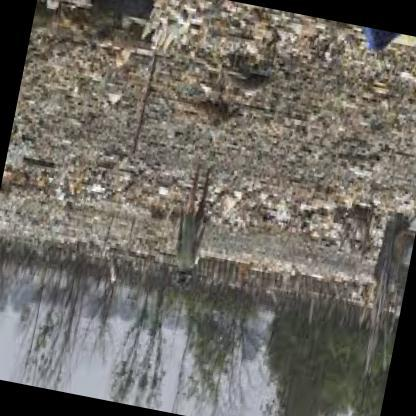Garbage: (96, 52, 138, 115), (291, 100, 331, 142), (210, 3, 250, 38), (67, 96, 110, 126), (262, 194, 292, 232), (231, 160, 267, 191), (164, 6, 200, 34), (328, 144, 364, 170), (371, 84, 390, 113), (86, 174, 104, 200), (147, 184, 172, 201)
